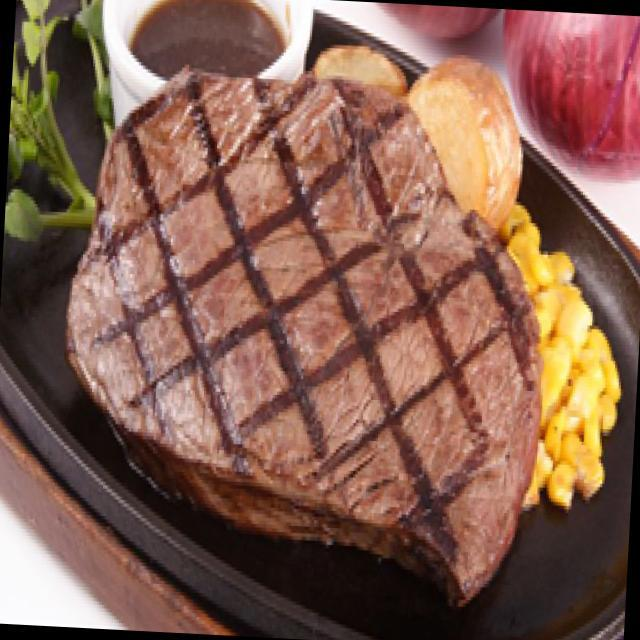Beef Steak: (50, 86, 539, 537)
